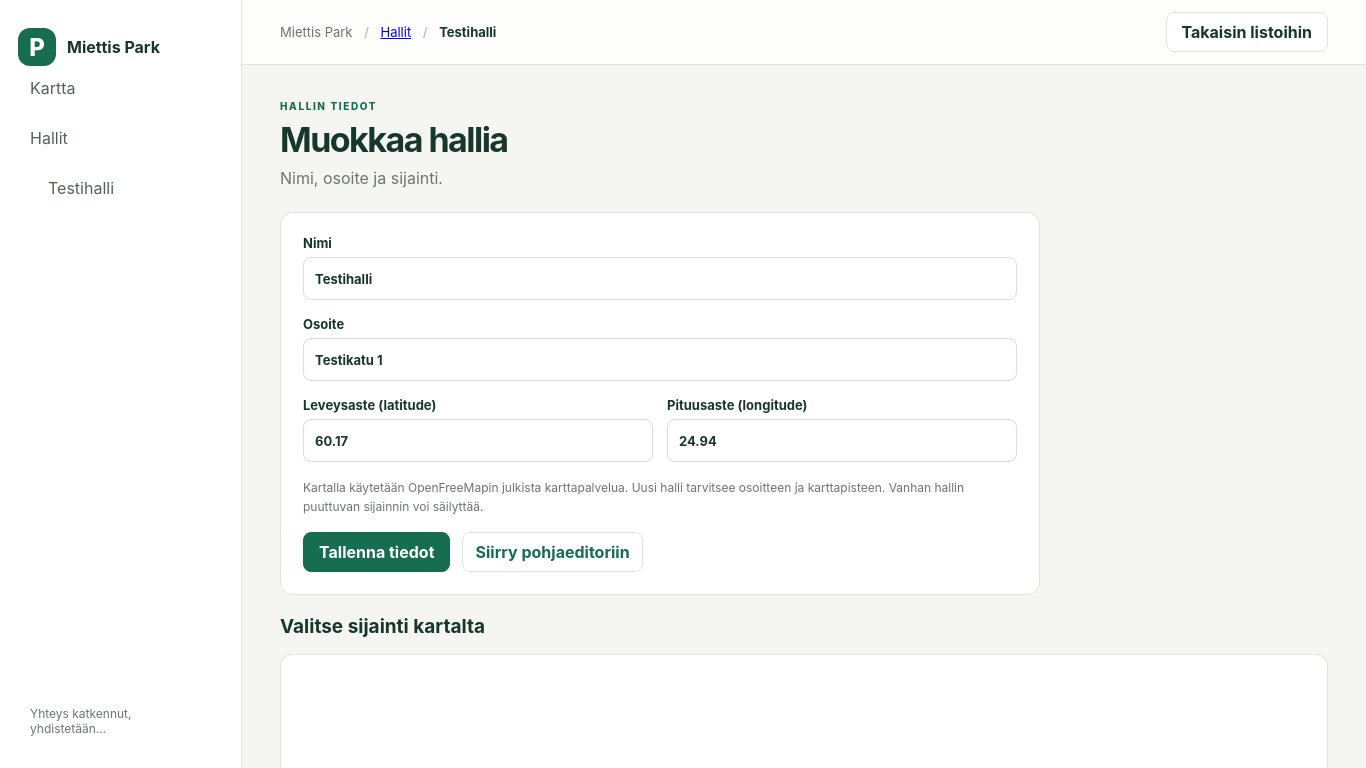
it: hallien ylläpidon DOM-näkymät › hallitsee koordinaattien kenttävirheet ja säilyttää editointilomakkeen API-virheessä
Replace the text in the field labelled "Nimi" with "Muokattu nimi" at (660, 278), box [303, 257, 1017, 300]
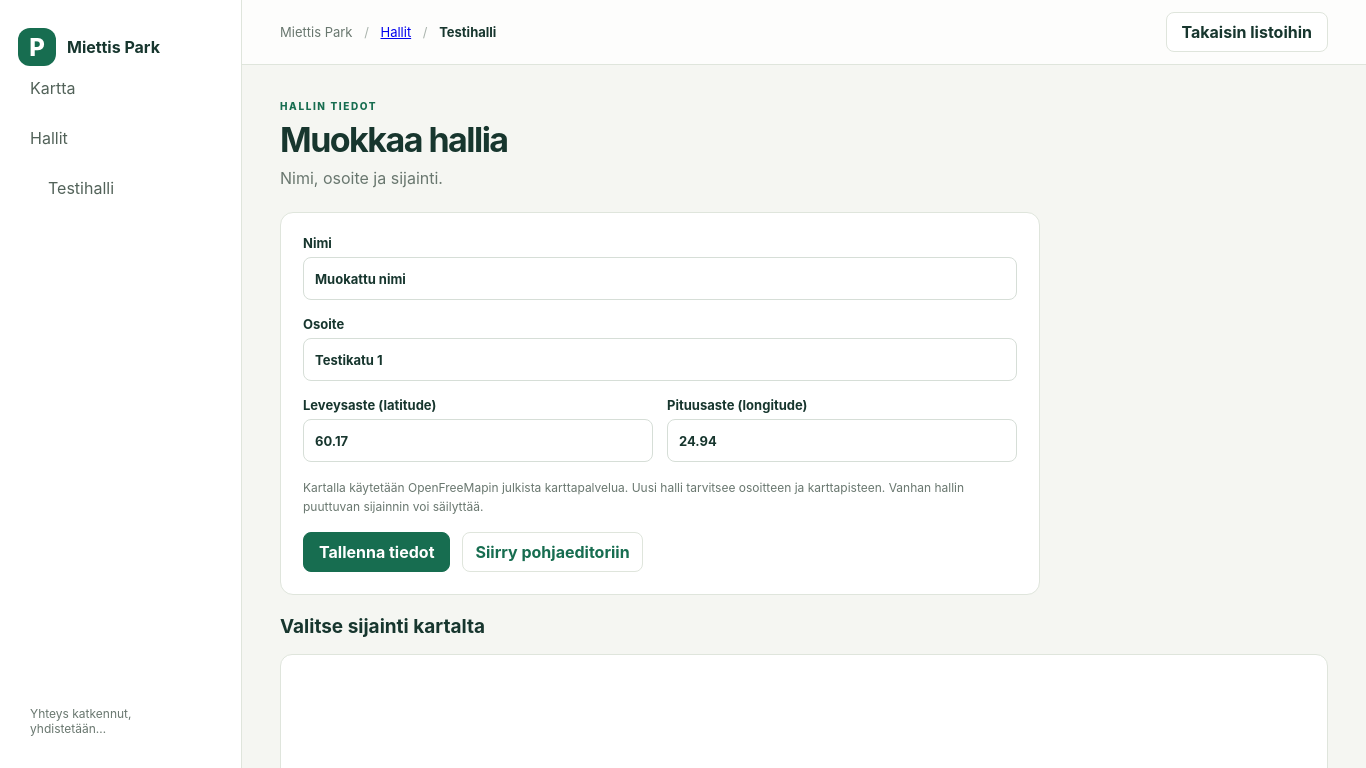
Replace the text in the number field labelled "Leveysaste (latitude)" with "60" at (478, 440), box [303, 419, 653, 462]
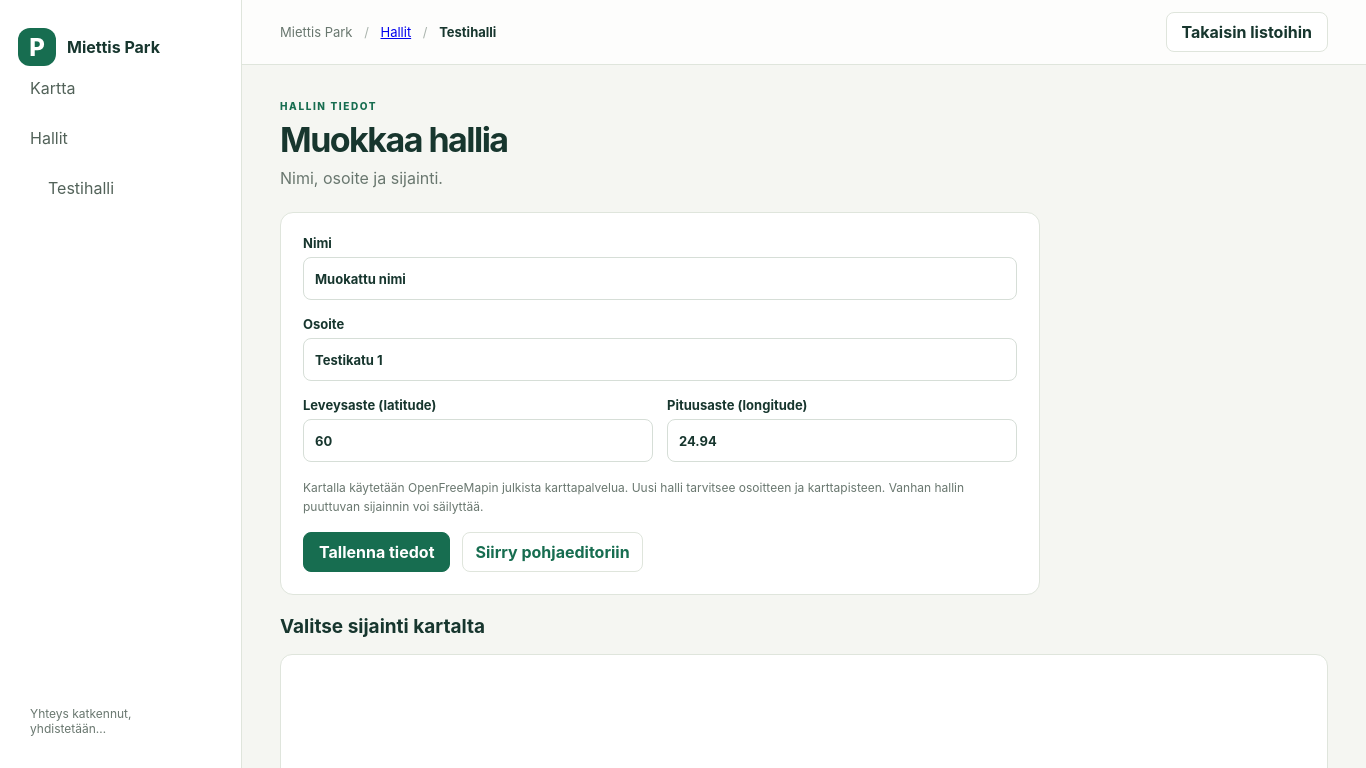
Clear the number field labelled "Pituusaste (longitude)" at (842, 440), box [667, 419, 1017, 462]
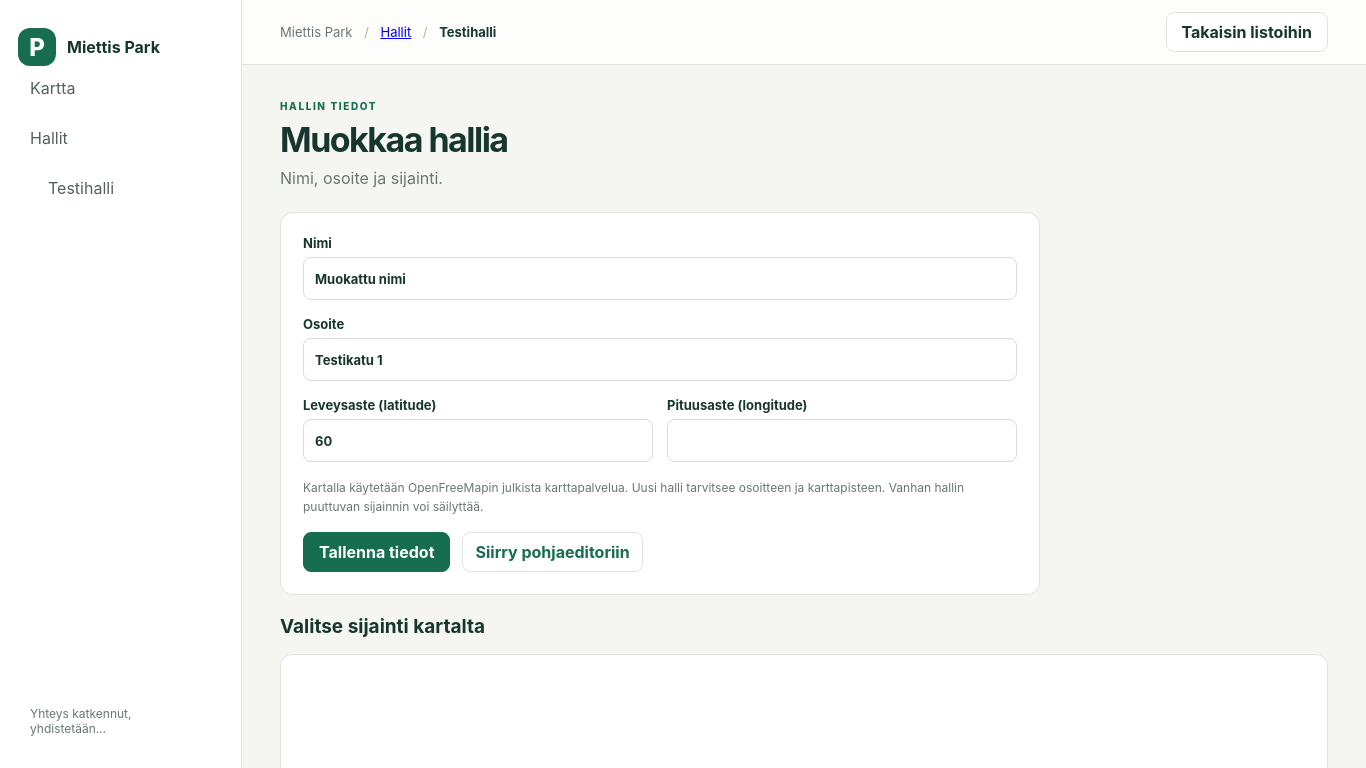
Submit the form, box [280, 212, 1040, 595]
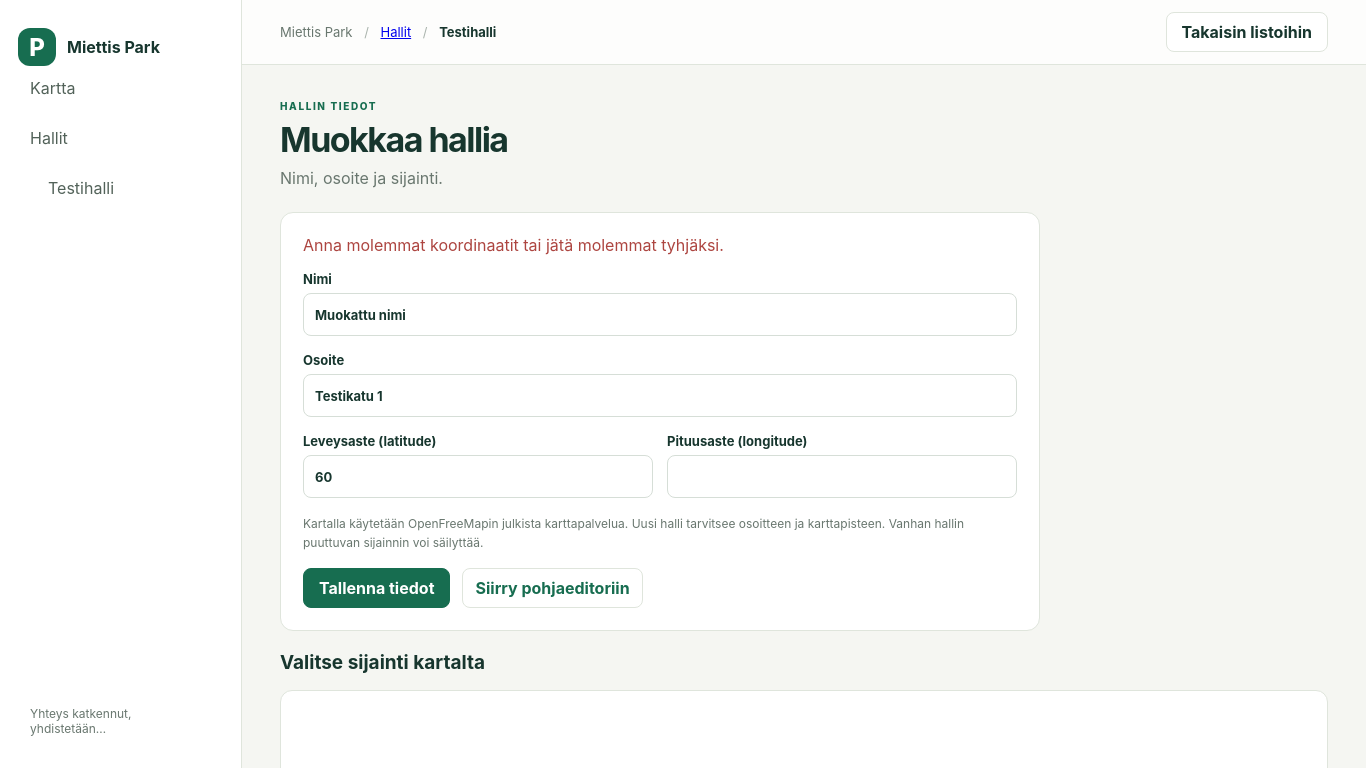
Result: the message "Anna molemmat koordinaatit tai jätä molemmat tyhjäksi." is shown at [303, 235, 724, 255]
Type "25" into the number field labelled "Pituusaste (longitude)" at (842, 476), box [667, 455, 1017, 498]
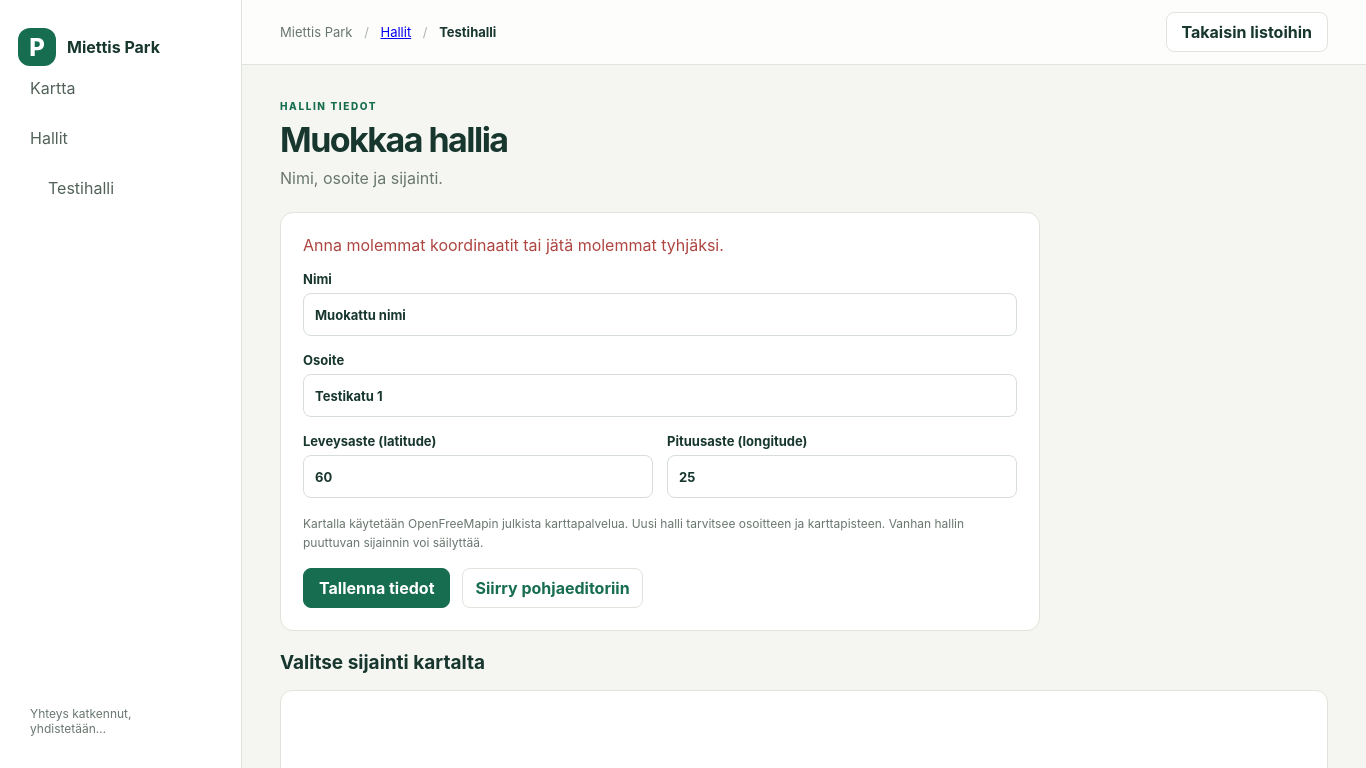
Submit the form, box [280, 212, 1040, 631]
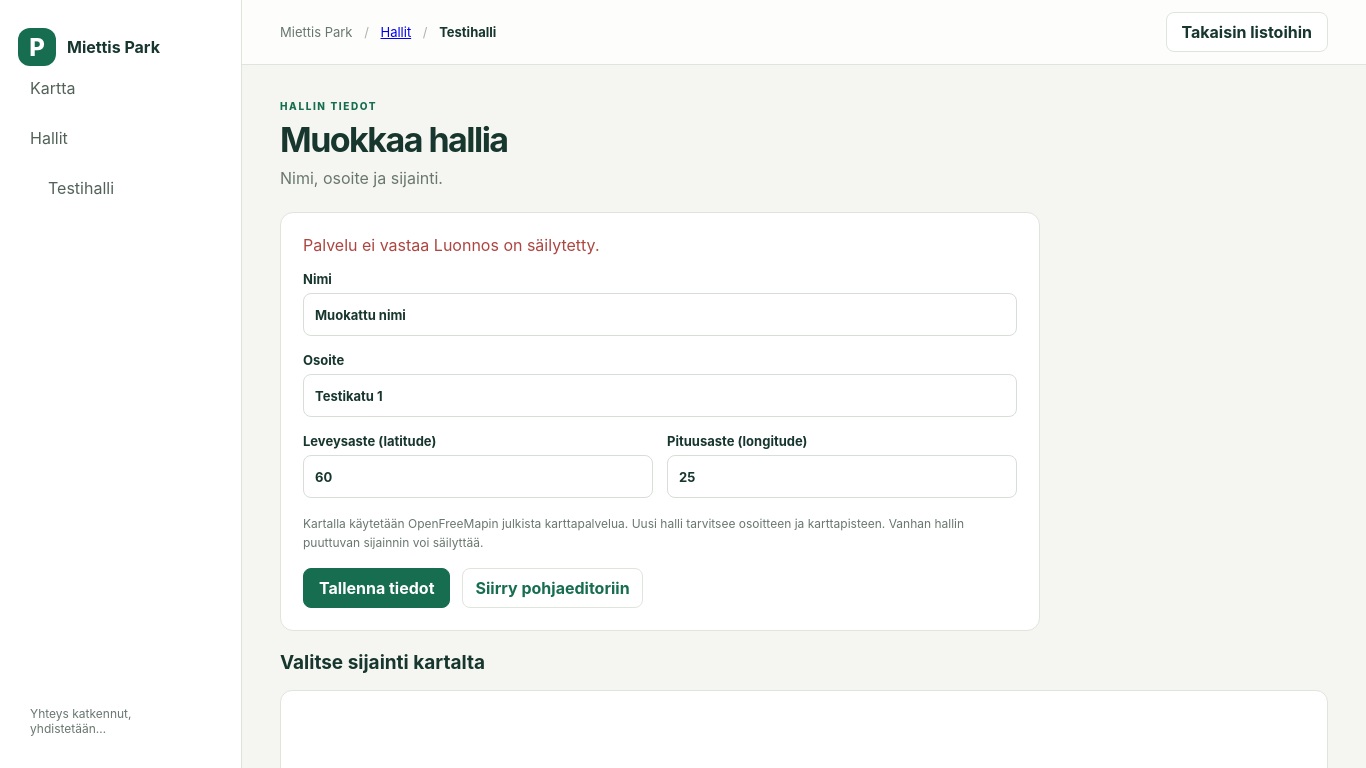
Result: the message "Palvelu ei vastaa Luonnos on säilytetty." is shown at [303, 235, 600, 255]
